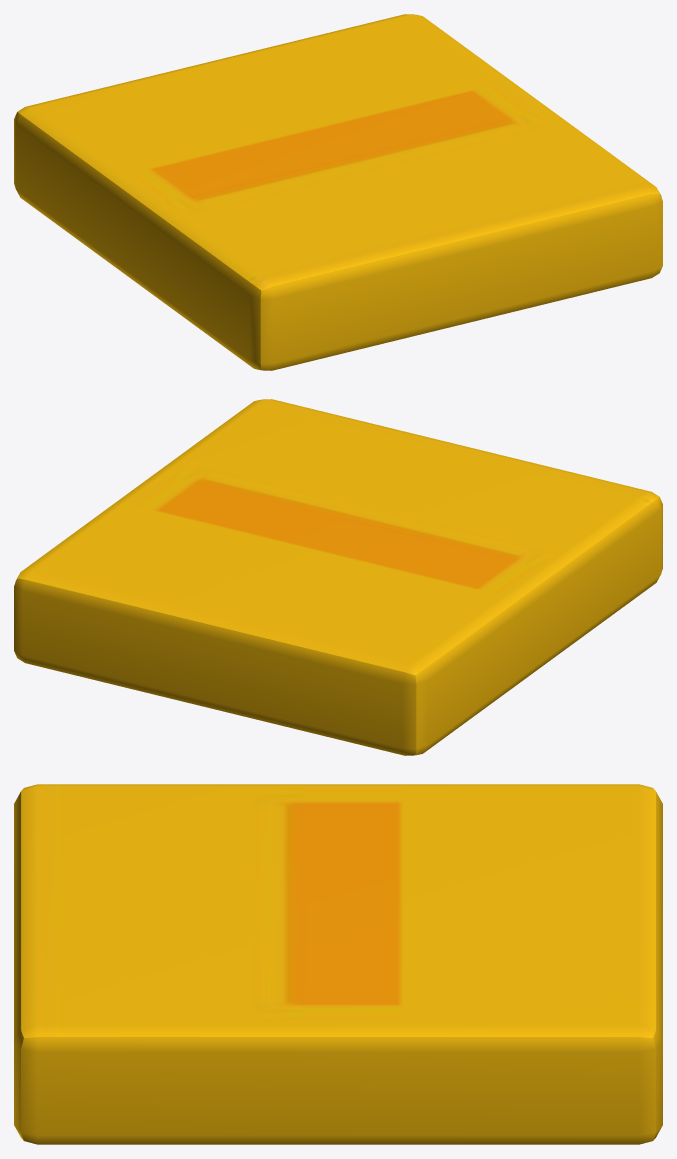
Rendered from stand_normal.fbx.
The picture shows the model from 3 angles, top to bottom: view 1: azimuth 30°, elevation 25°; view 2: azimuth 150°, elevation 25°; view 3: azimuth 270°, elevation 25°; orthographic projection. The views are drawn at different scales.
Visible parts, largest first — view 1: stand_normal; view 2: stand_normal; view 3: stand_normal.
Part boxes in pixels (box(x1,y1,x2,y2)): stand_normal: box(14, 14, 662, 370); stand_normal: box(14, 399, 662, 755); stand_normal: box(14, 784, 662, 1144).
Bounding box in the file's own units: 689 × 146 × 731.
1 material, 1 textured.
